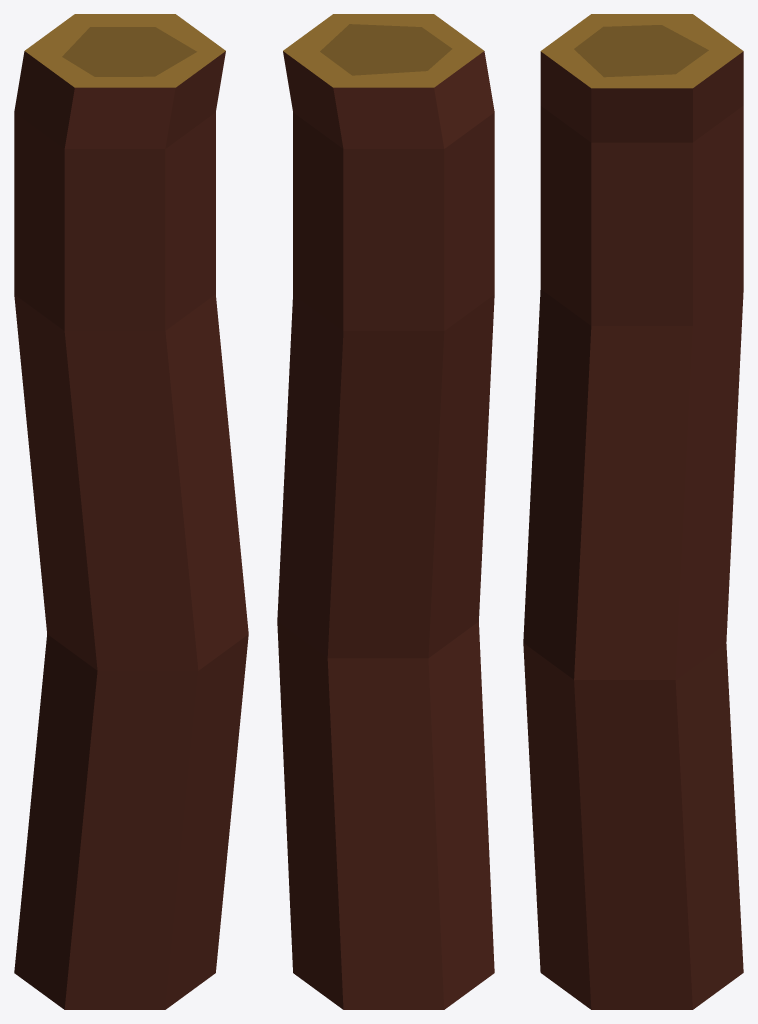
File: trunk2.fbx
The picture shows the model from 3 angles, left to right: view 1: azimuth 30°, elevation 25°; view 2: azimuth 150°, elevation 25°; view 3: azimuth 270°, elevation 25°; orthographic projection.
Visible parts, largest first — view 1: Cylinder.009; view 2: Cylinder.009; view 3: Cylinder.009.
Boxes of the visible parts, x1,y1,x2,y2 form: Cylinder.009: [14, 14, 248, 1009]; Cylinder.009: [277, 14, 494, 1009]; Cylinder.009: [523, 14, 743, 1009].
Size of the model in its own units: 54.59 by 273 by 58.9.
